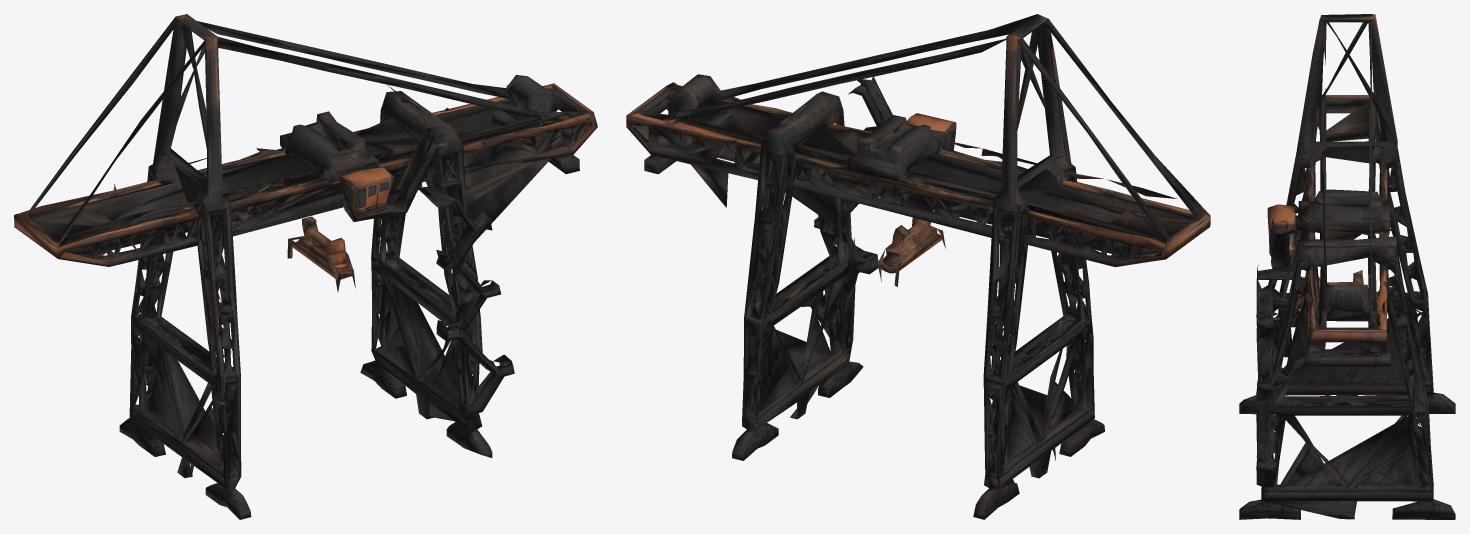
Rendered from crane.glb.
3 views of the same model, side by side, from view 1: azimuth 30°, elevation 25°; view 2: azimuth 150°, elevation 25°; view 3: azimuth 270°, elevation 25° (orthographic). The views are drawn at different scales.
Visible parts, largest first — view 1: Mesh_0; view 2: Mesh_0; view 3: Mesh_0.
Boxes of the visible parts, left/top/right/bottom form: Mesh_0: left=14, top=14, right=597, bottom=519; Mesh_0: left=626, top=14, right=1210, bottom=519; Mesh_0: left=1239, top=14, right=1455, bottom=519.
Bounding box in the file's own units: 1.9 × 1.49 × 0.7331.
Materials: 1 (1 with a texture image).
